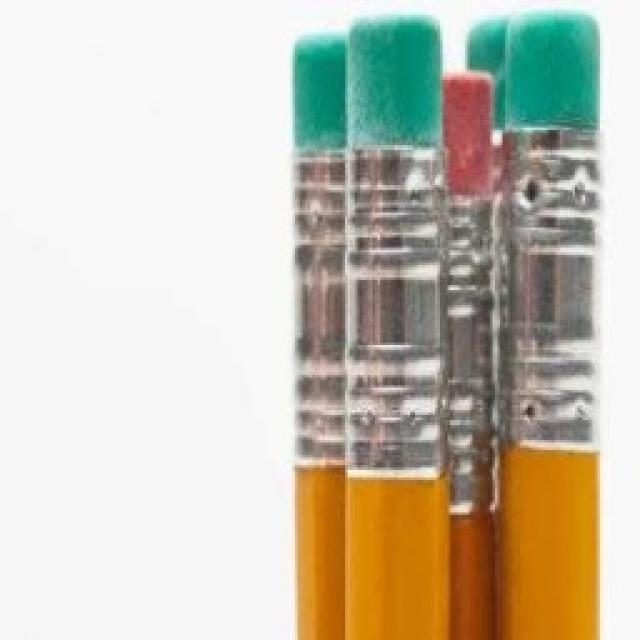pencil: (285, 5, 607, 637)
